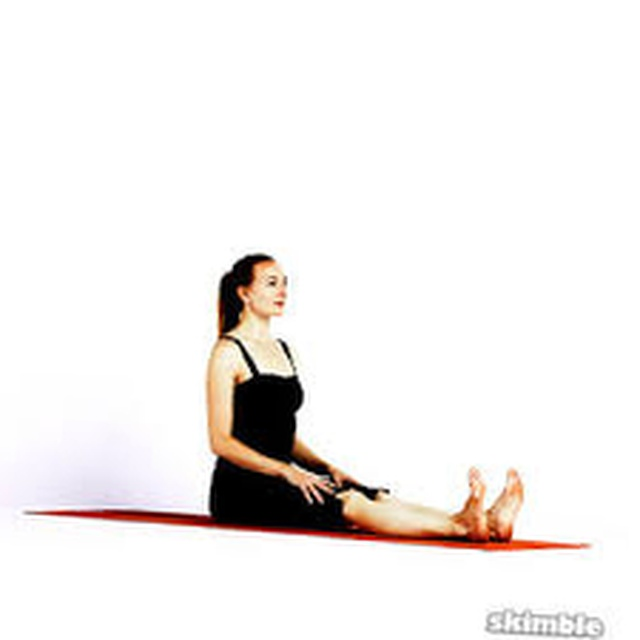Staff_Pose: (204, 252, 522, 547)
